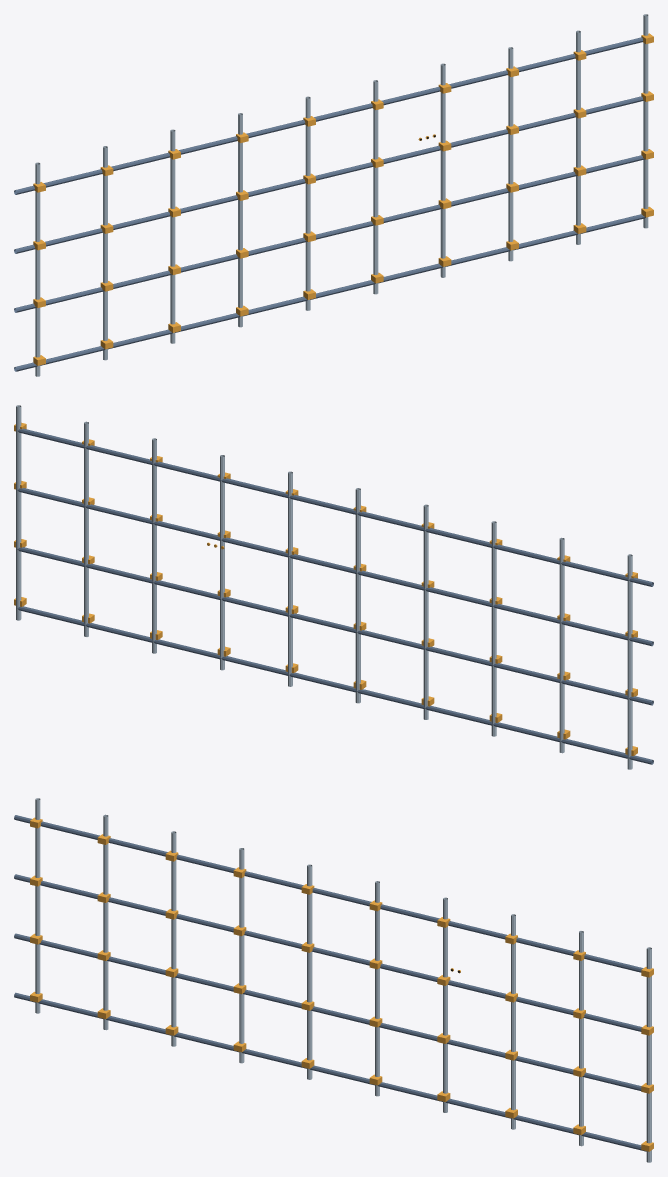
Rendered from 02_L90_ExteriorOrbitalStationTruss.fbx.
3 renders of one model, top to bottom at view 1: azimuth 30°, elevation 25°; view 2: azimuth 150°, elevation 25°; view 3: azimuth 330°, elevation 25°, orthographic.
Visible parts, largest first — view 1: L90_ExteriorOrbitalStationTruss; view 2: L90_ExteriorOrbitalStationTruss; view 3: L90_ExteriorOrbitalStationTruss.
Part boxes in pixels (x1,y1,x2,y2): L90_ExteriorOrbitalStationTruss: (14,14,653,376); L90_ExteriorOrbitalStationTruss: (14,405,653,769); L90_ExteriorOrbitalStationTruss: (14,798,653,1162).
Size of the model in its own units: 2818 by 900 by 120.
